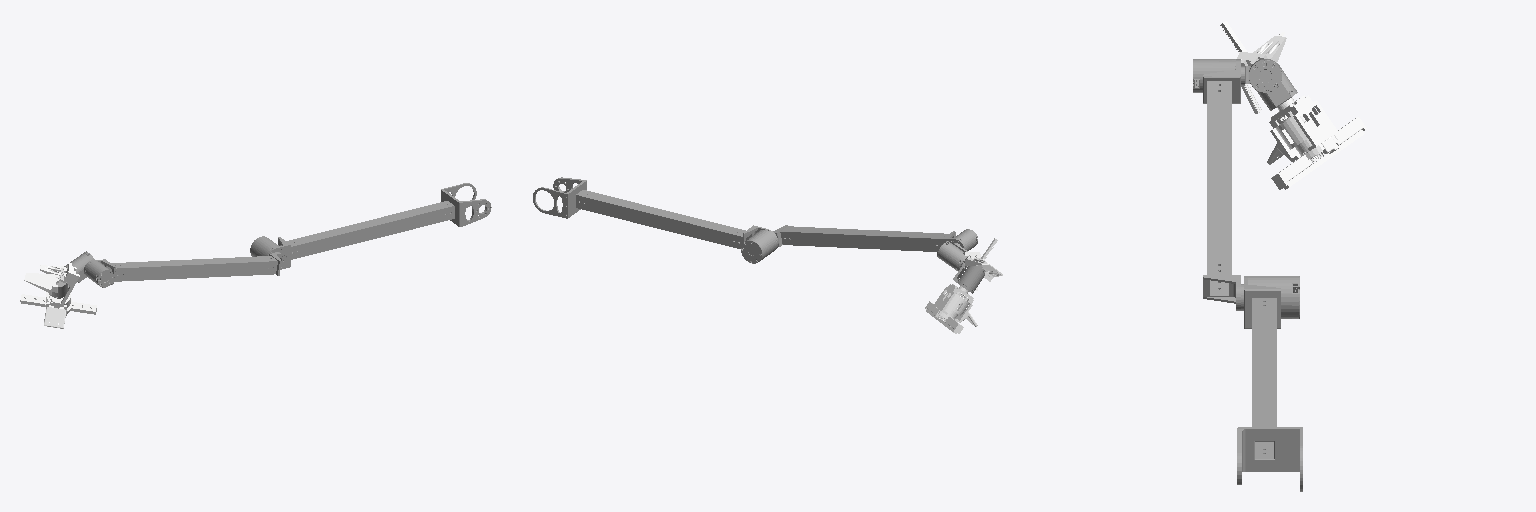
robot.urdf — car_urdf:
<?xml version="1.0" encoding="utf-8" ?>
<!-- This URDF was automatically created by SolidWorks to URDF Exporter! Originally created by Stephen Brawner (brawner@gmail.com) 
     Commit Version: 1.6.0-4-g7f85cfe  Build Version: 1.6.7995.38578
     For more information, please see http://wiki.ros.org/sw_urdf_exporter -->
<robot name="car_urdf">
    <link name="dummy" />
    <joint name="dummy_joint" type="fixed">
        <parent link="dummy" />
        <child link="base_link" />
    </joint>
    <link name="base_link">
        <inertial>
            <origin xyz="1.9442239403214E-06 0.00531069109650709 0.0238395994341592" rpy="0 0 0" />
            <mass value="0.246843411085798" />
            <inertia ixx="0.000192373271361537" ixy="5.22802381723286E-08" ixz="-1.57229969351522E-09" iyy="0.000335809102347398" iyz="-4.46875478080679E-06" izz="0.000304475372386247" />
        </inertial>
        <visual>
            <origin xyz="0 0 0" rpy="0 0 0" />
            <geometry>
                <mesh filename="package://car_urdf/meshes/base_link.STL" />
            </geometry>
            <material name="">
                <color rgba="0.792156862745098 0.819607843137255 0.933333333333333 1" />
            </material>
        </visual>
        <collision>
            <origin xyz="0 0 0" rpy="0 0 0" />
            <geometry>
                <mesh filename="package://car_urdf/meshes/base_link.STL" />
            </geometry>
        </collision>
    </link>
    <link name="joint_1_link">
        <inertial>
            <origin xyz="0.00527799246989458 0.00221512748377152 0.288992598715274" rpy="0 0 0" />
            <mass value="0.400617228197227" />
            <inertia ixx="0.00118928752998524" ixy="-1.66580426187447E-07" ixz="-2.17440480522971E-05" iyy="0.00122553902236228" iyz="-7.86734443364385E-06" izz="0.000207836332848072" />
        </inertial>
        <visual>
            <origin xyz="0 0 0" rpy="0 0 0" />
            <geometry>
                <mesh filename="package://car_urdf/meshes/link1.STL" />
            </geometry>
            <material name="">
                <color rgba="0.698039215686274 0.698039215686274 0.698039215686274 1" />
            </material>
        </visual>
        <collision>
            <origin xyz="0 0 0" rpy="0 0 0" />
            <geometry>
                <mesh filename="package://car_urdf/meshes/link1.STL" />
            </geometry>
        </collision>
    </link>
    <joint name="shoulder_yaw_joint" type="revolute">
        <origin xyz="0 -0.00419999972019724 0.054" rpy="-1.5707963267949 0 1.57030745170863" />
        <parent link="base_link" />
        <child link="joint_1_link" />
        <axis xyz="-1 0 0" />
        <limit lower="-3.14" upper="0" effort="0" velocity="0" />
    </joint>
    <link name="joint_2_link">
        <inertial>
            <origin xyz="-0.0289514418738021 -0.0539893815987094 0.285713893552422" rpy="0 0 0" />
            <mass value="0.230744553272649" />
            <inertia ixx="0.00104956541855008" ixy="1.14186722095414E-07" ixz="-5.64519648302555E-07" iyy="0.00102697475255679" iyz="0.000180581630269562" izz="0.000105441049477574" />
        </inertial>
        <visual>
            <origin xyz="0 0 0" rpy="0 0 0" />
            <geometry>
                <mesh filename="package://car_urdf/meshes/link2.STL" />
            </geometry>
            <material name="">
                <color rgba="0.698039215686274 0.698039215686274 0.698039215686274 1" />
            </material>
        </visual>
        <collision>
            <origin xyz="0 0 0" rpy="0 0 0" />
            <geometry>
                <mesh filename="package://car_urdf/meshes/link2.STL" />
            </geometry>
        </collision>
    </link>
    <joint name="shoulder_pitch_joint" type="revolute">
        <origin xyz="-0.0190610592148176 0.0037785921272299 0.492983162251151" rpy="0 0 0" />
        <parent link="joint_1_link" />
        <child link="joint_2_link" />
        <axis xyz="1 0 0" />
        <limit lower="-2.93" upper="2.95" effort="0" velocity="0" />
    </joint>
    <link name="joint_3_link">
        <inertial>
            <origin xyz="0.0817348080152344 0.00631043308468887 0.0145304551130211" rpy="0 0 0" />
            <mass value="0.0824529162671332" />
            <inertia ixx="2.52208026875665E-05" ixy="-9.38918528365317E-07" ixz="-2.15162295674946E-06" iyy="2.61838498056079E-05" iyz="-3.55367452857558E-06" izz="1.95380039083763E-05" />
        </inertial>
        <visual>
            <origin xyz="0 0 0" rpy="0 0 0" />
            <geometry>
                <mesh filename="package://car_urdf/meshes/link3.STL" />
            </geometry>
            <material name="">
                <color rgba="0.698039215686274 0.698039215686274 0.698039215686274 1" />
            </material>
        </visual>
        <collision>
            <origin xyz="0 0 0" rpy="0 0 0" />
            <geometry>
                <mesh filename="package://car_urdf/meshes/link3.STL" />
            </geometry>
        </collision>
    </link>
    <joint name="elbow_pitch_joint" type="continuous">
        <origin xyz="-0.0634554958516763 -0.08466955254996 0.44806252567829" rpy="0 0 0" />
        <parent link="joint_2_link" />
        <child link="joint_3_link" />
        <axis xyz="-1 0 0" />
    </joint>
    <link name="joint_4_link">
        <inertial>
            <origin xyz="0.00890807551218276 0.0130884602175348 0.0817401465685984" rpy="0 0 0" />
            <mass value="0.0824529142602831" />
            <inertia ixx="2.46775716865345E-05" ixy="-4.53665204521974E-06" ixz="-1.32319484330853E-06" iyy="2.10766289984127E-05" iyz="-1.92999691209014E-06" izz="2.5188455562489E-05" />
        </inertial>
        <visual>
            <origin xyz="0 0 0" rpy="0 0 0" />
            <geometry>
                <mesh filename="package://car_urdf/meshes/link4.STL" />
            </geometry>
            <material name="">
                <color rgba="0.698039215686274 0.698039215686274 0.698039215686274 1" />
            </material>
        </visual>
        <collision>
            <origin xyz="0 0 0" rpy="0 0 0" />
            <geometry>
                <mesh filename="package://car_urdf/meshes/link4.STL" />
            </geometry>
        </collision>
    </link>
    <joint name="wrist_pitch_joint" type="continuous">
        <origin xyz="0.0867019191362518 -0.00673445031368503 -0.0154894931182463" rpy="-0.40986791242469 -0.000123856296620052 0" />
        <parent link="joint_3_link" />
        <child link="joint_4_link" />
        <axis xyz="0 0 -1" />
    </joint>
    <link name="joint_5_link">
        <inertial>
            <origin xyz="0.105186720073894 0.00235968914936002 -0.0022246606375701" rpy="0 0 0" />
            <mass value="0.174467238698695" />
            <inertia ixx="0.000154343896810332" ixy="-1.98935759843775E-06" ixz="1.86240133131484E-06" iyy="0.000103856592098492" iyz="-3.22519277835911E-05" izz="9.91083108892448E-05" />
        </inertial>
        <visual>
            <origin xyz="0 0 0" rpy="0 0 0" />
            <geometry>
                <mesh filename="package://car_urdf/meshes/link5.STL" />
            </geometry>
            <material name="">
                <color rgba="1 1 1 1" />
            </material>
        </visual>
        <collision>
            <origin xyz="0 0 0" rpy="0 0 0" />
            <geometry>
                <mesh filename="package://car_urdf/meshes/link5.STL" />
            </geometry>
        </collision>
    </link>
    <joint name="wrist_roll_joint" type="continuous">
        <origin xyz="-0.00950565079420626 -0.0139732817540251 0.0866999999999829" rpy="1.5703914601342 0 0.973432793021899" />
        <parent link="joint_4_link" />
        <child link="joint_5_link" />
        <axis xyz="-1 0 0" />
    </joint>
    <link name="joint_6_link">
        <inertial>
            <origin xyz="0 0 0" rpy="0 0 0" />
            <mass value="0.001" />
            <inertia ixx="1e-6" ixy="0" ixz="0" iyy="1e-6" iyz="0" izz="1e-6" />
        </inertial>
    </link>
    <joint name="wrist_yaw_joint" type="continuous">
        <origin xyz="0 0 0" rpy="0 0 0" />
        <parent link="joint_5_link" />
        <child link="joint_6_link" />
        <axis xyz="0 0 1" />
    </joint>
    <link name="left_gripper_finger_link">
        <inertial>
            <origin xyz="-0.00450736179791811 -0.000673663938952296 0.00380318250475943" rpy="0 0 0" />
            <mass value="0.0276498547531941" />
            <inertia ixx="6.62112429571255E-06" ixy="1.23049107146354E-07" ixz="5.68457369224247E-07" iyy="7.500189084869E-06" iyz="-1.12447985360647E-06" izz="7.54576526882826E-06" />
        </inertial>
        <visual>
            <origin xyz="0 0 0" rpy="0 0 0" />
            <geometry>
                <mesh filename="package://car_urdf/meshes/linkzhua1.STL" />
            </geometry>
            <material name="">
                <color rgba="1 1 1 1" />
            </material>
        </visual>
    </link>
    <joint name="left_gripper_finger_joint" type="prismatic">
        <origin xyz="0.0 0.02 0.0" rpy="0 0 0" />
        <parent link="joint_6_link" />
        <child link="left_gripper_finger_link" />
        <axis xyz="0 1 0" />
        <limit lower="-0.06" upper="0" effort="100" velocity="0.2" />
        <dynamics damping="5.0" friction="1.0" />
    </joint>
    <link name="right_gripper_finger_link">
        <inertial>
            <origin xyz="0.00123526659265605 0.00575362909473481 -0.000479857152509387" rpy="0 0 0" />
            <mass value="0.0276496025259502" />
            <inertia ixx="7.69978326990058E-06" ixy="-8.08090839029367E-07" ixz="4.82144588161451E-07" iyy="6.78857023532845E-06" iyz="-8.83092307840954E-07" izz="7.17860180138716E-06" />
        </inertial>
        <visual>
            <origin xyz="0 0 0" rpy="0 0 0" />
            <geometry>
                <mesh filename="package://car_urdf/meshes/linkzhua2.STL" />
            </geometry>
            <material name="">
                <color rgba="1 1 1 1" />
            </material>
        </visual>
    </link>
    <joint name="right_gripper_finger_joint" type="fixed">
        <origin xyz="0.0 -0.02 0.0" rpy="0 0 0" />
        <parent link="joint_6_link" />
        <child link="right_gripper_finger_link" />
    </joint>
    <transmission name="trans_shoulder_yaw_joint">
        <type>transmission_interface/SimpleTransmission</type>
        <joint name="shoulder_yaw_joint">
            <hardwareInterface>hardware_interface/PositionJointInterface</hardwareInterface>
        </joint>
        <actuator name="shoulder_yaw_joint_motor">
            <hardwareInterface>hardware_interface/PositionJointInterface</hardwareInterface>
            <mechanicalReduction>1</mechanicalReduction>
        </actuator>
    </transmission>
    <transmission name="trans_shoulder_pitch_joint">
        <type>transmission_interface/SimpleTransmission</type>
        <joint name="shoulder_pitch_joint">
            <hardwareInterface>hardware_interface/PositionJointInterface</hardwareInterface>
        </joint>
        <actuator name="shoulder_pitch_joint_motor">
            <hardwareInterface>hardware_interface/PositionJointInterface</hardwareInterface>
            <mechanicalReduction>1</mechanicalReduction>
        </actuator>
    </transmission>
    <transmission name="trans_elbow_pitch_joint">
        <type>transmission_interface/SimpleTransmission</type>
        <joint name="elbow_pitch_joint">
            <hardwareInterface>hardware_interface/PositionJointInterface</hardwareInterface>
        </joint>
        <actuator name="elbow_pitch_joint_motor">
            <hardwareInterface>hardware_interface/PositionJointInterface</hardwareInterface>
            <mechanicalReduction>1</mechanicalReduction>
        </actuator>
    </transmission>
    <transmission name="trans_wrist_pitch_joint">
        <type>transmission_interface/SimpleTransmission</type>
        <joint name="wrist_pitch_joint">
            <hardwareInterface>hardware_interface/PositionJointInterface</hardwareInterface>
        </joint>
        <actuator name="wrist_pitch_joint_motor">
            <hardwareInterface>hardware_interface/PositionJointInterface</hardwareInterface>
            <mechanicalReduction>1</mechanicalReduction>
        </actuator>
    </transmission>
    <transmission name="trans_wrist_roll_joint">
        <type>transmission_interface/SimpleTransmission</type>
        <joint name="wrist_roll_joint">
            <hardwareInterface>hardware_interface/PositionJointInterface</hardwareInterface>
        </joint>
        <actuator name="wrist_roll_joint_motor">
            <hardwareInterface>hardware_interface/PositionJointInterface</hardwareInterface>
            <mechanicalReduction>1</mechanicalReduction>
        </actuator>
    </transmission>
    <transmission name="trans_wrist_yaw_joint">
        <type>transmission_interface/SimpleTransmission</type>
        <joint name="wrist_yaw_joint">
            <hardwareInterface>hardware_interface/PositionJointInterface</hardwareInterface>
        </joint>
        <actuator name="wrist_yaw_joint_motor">
            <hardwareInterface>hardware_interface/PositionJointInterface</hardwareInterface>
            <mechanicalReduction>1</mechanicalReduction>
        </actuator>
    </transmission>
    <transmission name="trans_left_gripper_finger_joint">
        <type>transmission_interface/SimpleTransmission</type>
        <joint name="left_gripper_finger_joint">
            <hardwareInterface>hardware_interface/PositionJointInterface</hardwareInterface>
        </joint>
        <actuator name="left_gripper_finger_joint_motor">
            <hardwareInterface>hardware_interface/PositionJointInterface</hardwareInterface>
            <mechanicalReduction>1</mechanicalReduction>
        </actuator>
    </transmission>
    <gazebo>
        <plugin name="gazebo_ros_control" filename="libgazebo_ros_control.so">
            <robotNamespace>/</robotNamespace>
        </plugin>
    </gazebo>
</robot>

--- Render facts (derived) ---
3 views of the same robot in one strip: view 1: azimuth 30°, elevation 25°; view 2: azimuth 150°, elevation 25°; view 3: azimuth 270°, elevation 25° (orthographic).
Model car_urdf with 10 links and 9 joints (2 revolute, 4 continuous, 1 prismatic, 2 fixed), rooted at dummy, posed all joints at 0.
Visible links, largest first — view 1: joint_1_link, joint_2_link, joint_5_link, left_gripper_finger_link; view 2: joint_1_link, joint_2_link, joint_5_link, joint_4_link, joint_3_link; view 3: joint_1_link, joint_2_link, joint_5_link, joint_3_link, right_gripper_finger_link, joint_4_link.
Boxes of the visible links, <box> form: joint_1_link: <box>250,183,491,269</box>; joint_2_link: <box>84,252,285,287</box>; joint_5_link: <box>20,292,96,328</box>; left_gripper_finger_link: <box>24,266,63,295</box>; joint_1_link: <box>533,177,778,263</box>; joint_2_link: <box>773,225,977,251</box>; joint_5_link: <box>925,284,977,333</box>; joint_4_link: <box>953,262,985,293</box>; joint_3_link: <box>937,241,968,270</box>; joint_1_link: <box>1237,276,1302,491</box>; joint_2_link: <box>1193,59,1243,310</box>; joint_5_link: <box>1267,95,1366,189</box>; joint_3_link: <box>1241,59,1281,92</box>; right_gripper_finger_link: <box>1237,36,1286,113</box>; joint_4_link: <box>1256,63,1297,110</box>.
Bounding box of the posed robot: 1.11 × 0.2094 × 0.1751 m (x, y, z).
7 mesh visuals loaded from 8 distinct referenced files (7 binary STL); not drawn: 1 (reference not matched to a file when rendering).
